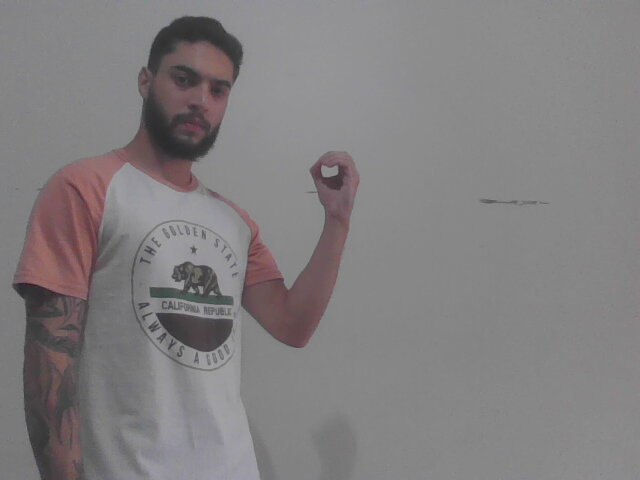o: (300, 142, 375, 226)
